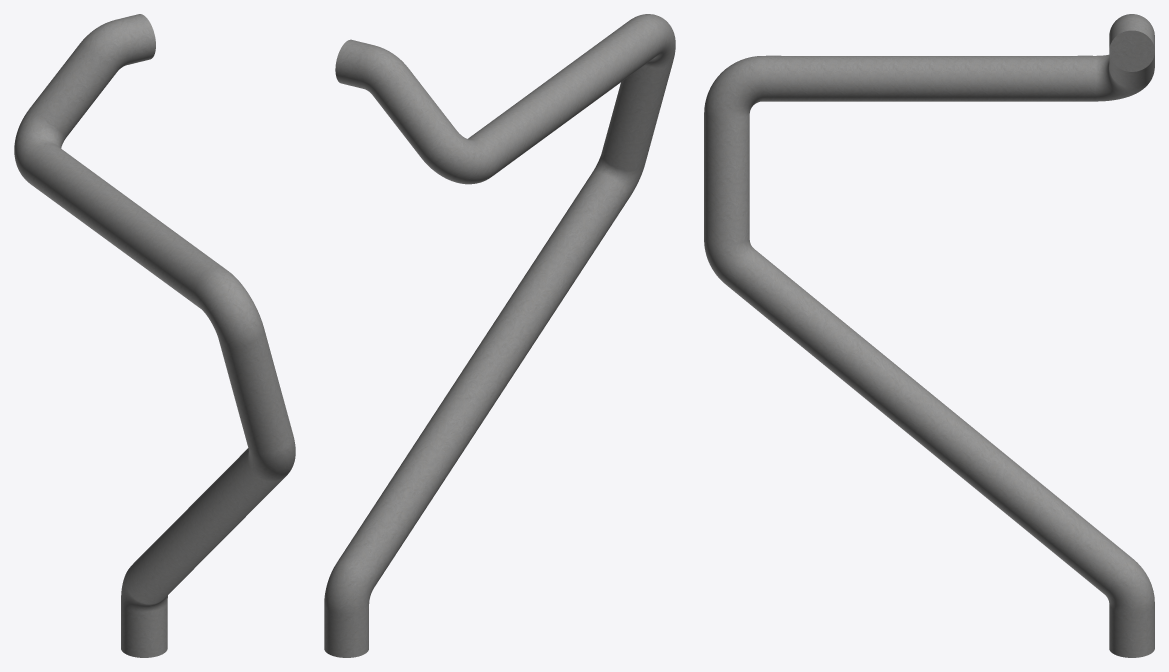
File: isquio.glb
3 views of the same model, side by side, from view 1: azimuth 30°, elevation 25°; view 2: azimuth 150°, elevation 25°; view 3: azimuth 270°, elevation 25° (orthographic). The views are drawn at different scales.
Visible parts, largest first — view 1: Object_102; view 2: Object_102; view 3: Object_102.
Boxes of the visible parts, left/top/right/bottom form: Object_102: left=14, top=14, right=295, bottom=657; Object_102: left=324, top=14, right=675, bottom=657; Object_102: left=704, top=14, right=1154, bottom=657.
Bounding box in the file's own units: 0.1993 × 0.7572 × 0.5008.
Materials: 1 (1 with a texture image).
